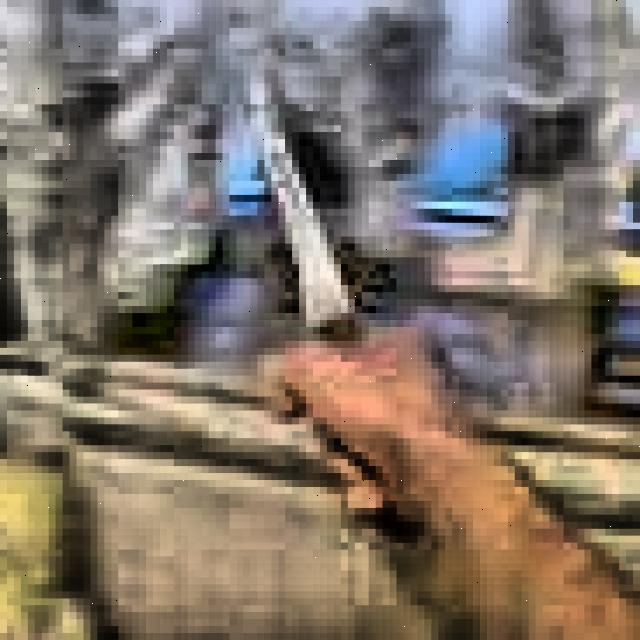knife: (240, 64, 416, 547)
